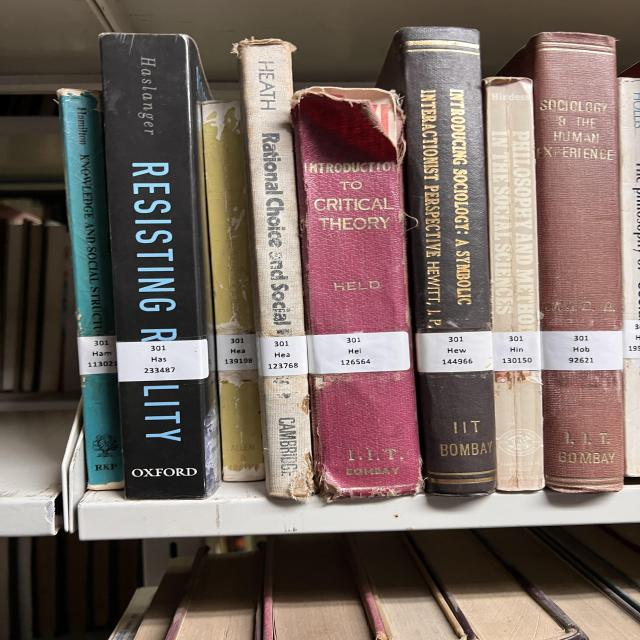Book: (500, 32, 625, 492), (100, 34, 220, 500), (378, 26, 495, 495), (292, 89, 422, 499), (233, 39, 313, 500), (57, 89, 123, 490), (483, 78, 545, 491), (202, 101, 265, 481), (618, 78, 640, 476)
Label: (307, 331, 410, 374), (117, 339, 208, 382), (540, 331, 623, 371), (415, 331, 493, 372), (257, 335, 308, 376), (492, 331, 542, 371), (77, 336, 117, 375), (217, 334, 257, 371), (623, 320, 640, 359)
